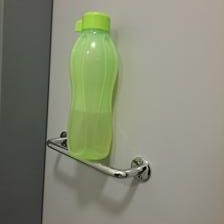bottle: (64, 10, 120, 159)
